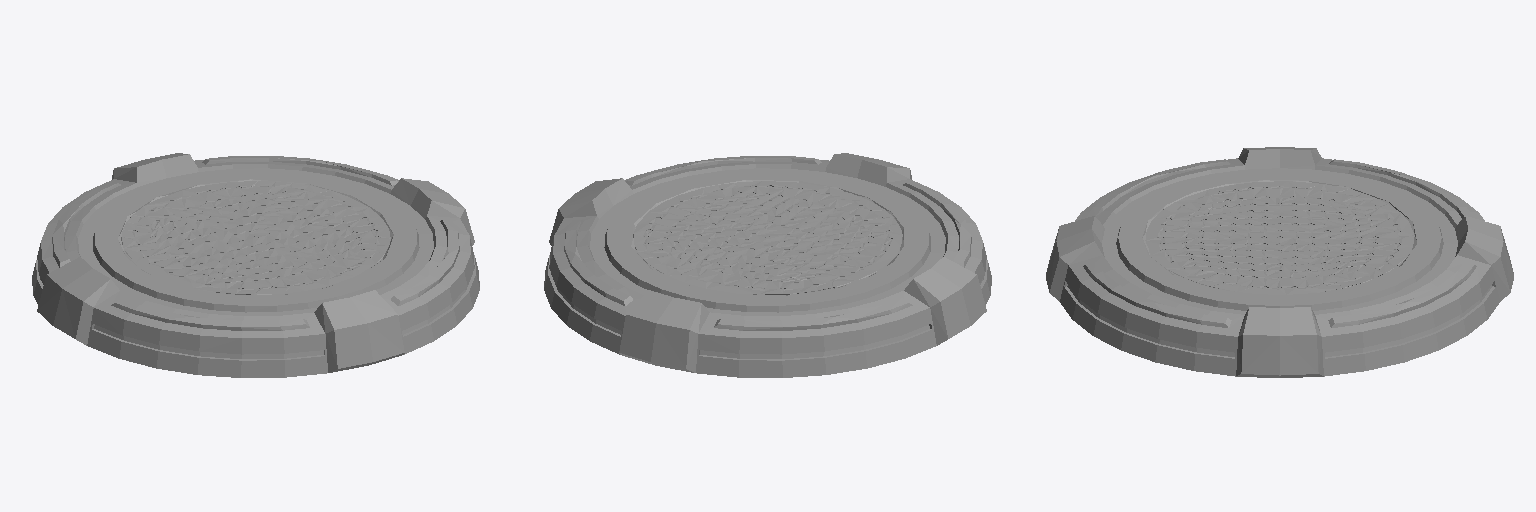
The model's file is plat2.obj.
The picture shows the model from 3 angles: view 1: azimuth 30°, elevation 25°; view 2: azimuth 150°, elevation 25°; view 3: azimuth 270°, elevation 25°; orthographic projection.
Parts seen in each view (by area): view 1: tech_pedestal_Circle.001; view 2: tech_pedestal_Circle.001; view 3: tech_pedestal_Circle.001.
Part boxes in pixels (x1,y1,x2,y2): tech_pedestal_Circle.001: (32, 153, 479, 377); tech_pedestal_Circle.001: (544, 153, 991, 377); tech_pedestal_Circle.001: (1046, 147, 1513, 377).
Bounding box in the file's own units: 24.79 × 3.21 × 24.79.